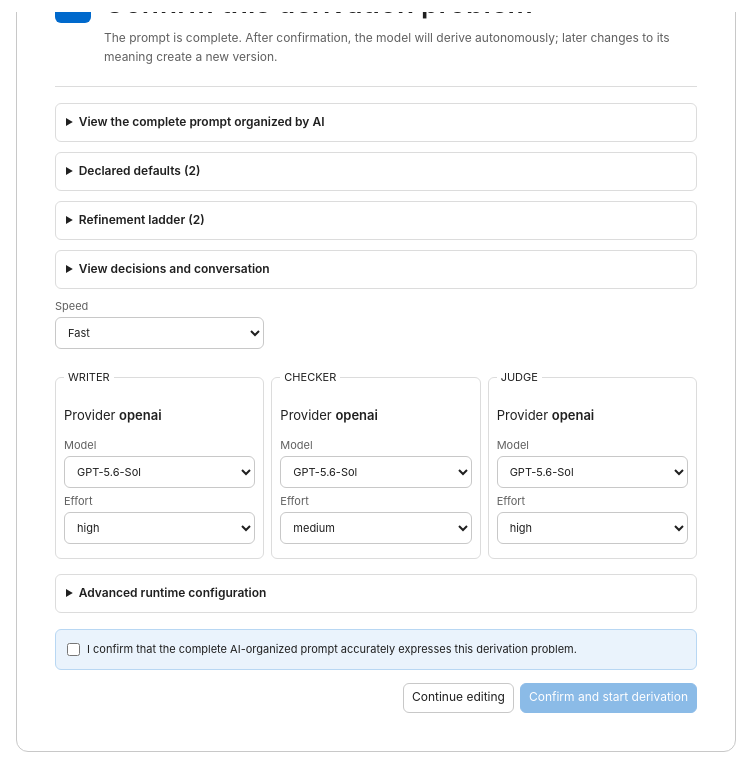
Test: persistent frontier-based Problem Intake › does not re-send a correction the session refused outright
(page scrolled)
Click the button "Continue editing": {"x": 458, "y": 698} [403, 683, 514, 713]
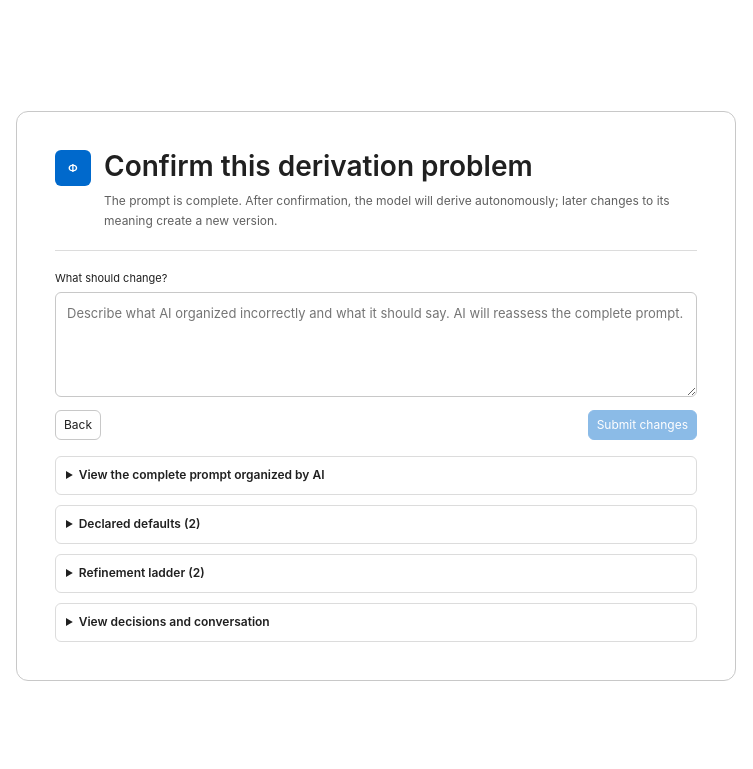
In the text box labelled "What should change?": {"x": 376, "y": 345} [55, 292, 697, 397], type "Use the retarded response."
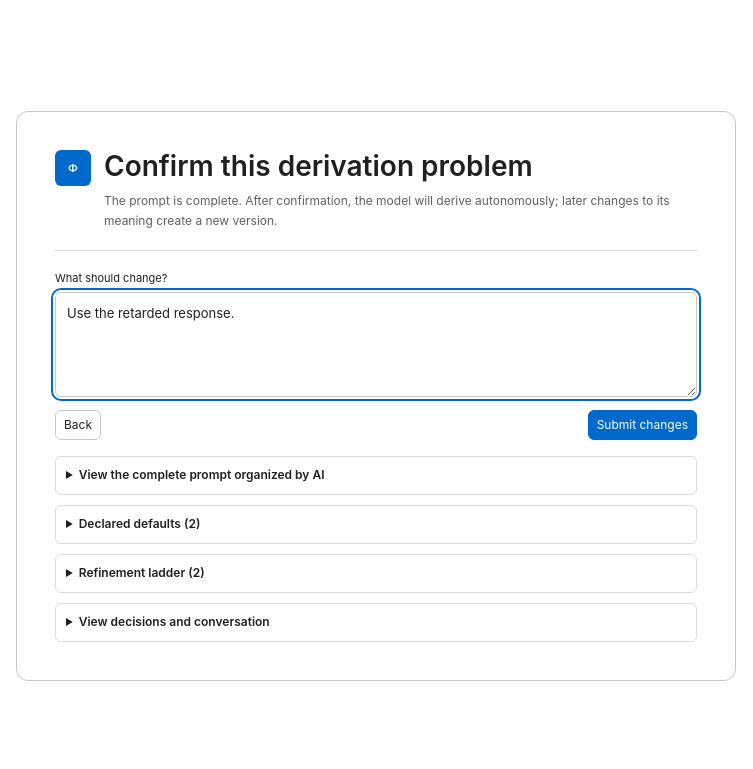
Click the button "Submit changes": {"x": 642, "y": 425} [588, 410, 697, 440]
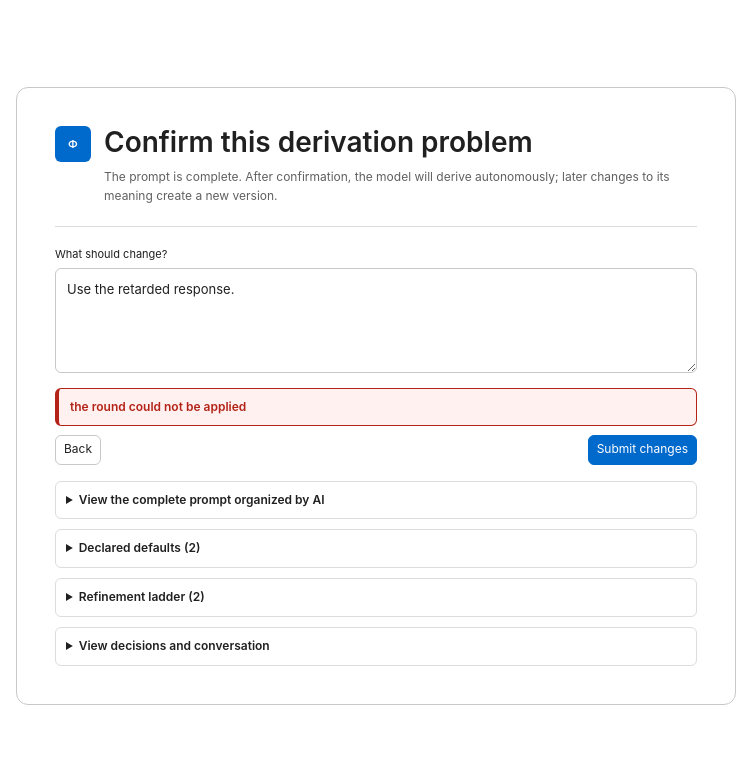
Now the message reads "the round could not be applied", box [70, 399, 246, 414]
